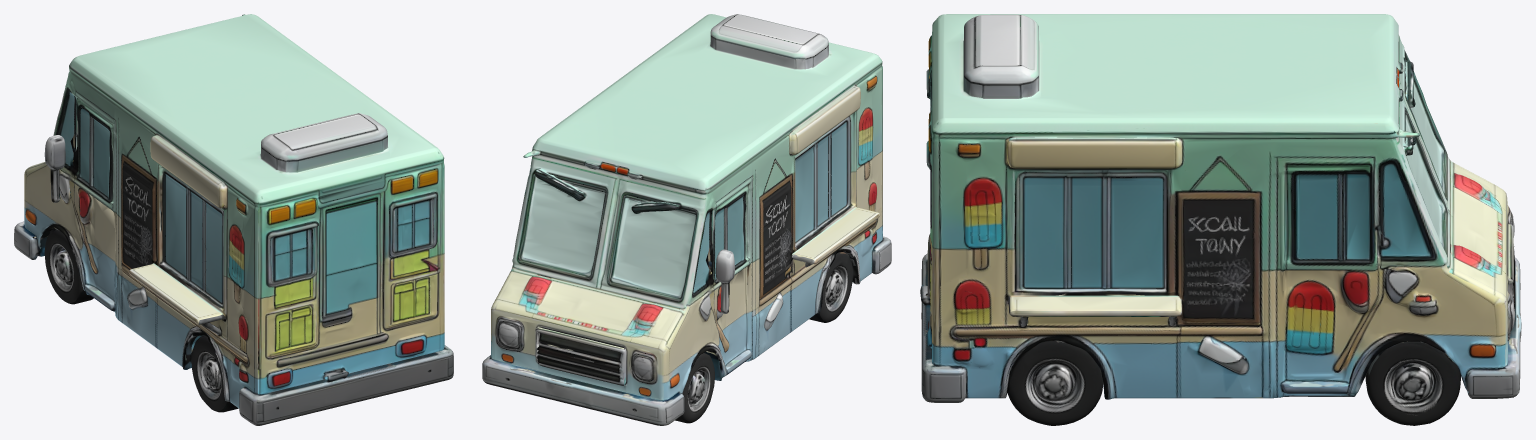
Rendered from ice-cream-truck.glb.
3 renders of one model, left to right at view 1: azimuth 30°, elevation 25°; view 2: azimuth 150°, elevation 25°; view 3: azimuth 270°, elevation 25°, orthographic. The views are drawn at different scales.
Visible parts, largest first — view 1: Ice Cream Truck; view 2: Ice Cream Truck; view 3: Ice Cream Truck.
Boxes of the visible parts, x1,y1,x2,y2 form: Ice Cream Truck: [14, 14, 453, 425]; Ice Cream Truck: [482, 14, 891, 425]; Ice Cream Truck: [920, 14, 1521, 425].
Size of the model in its own units: 5.12 by 5.5 by 8.99.
1 material, 1 textured.
